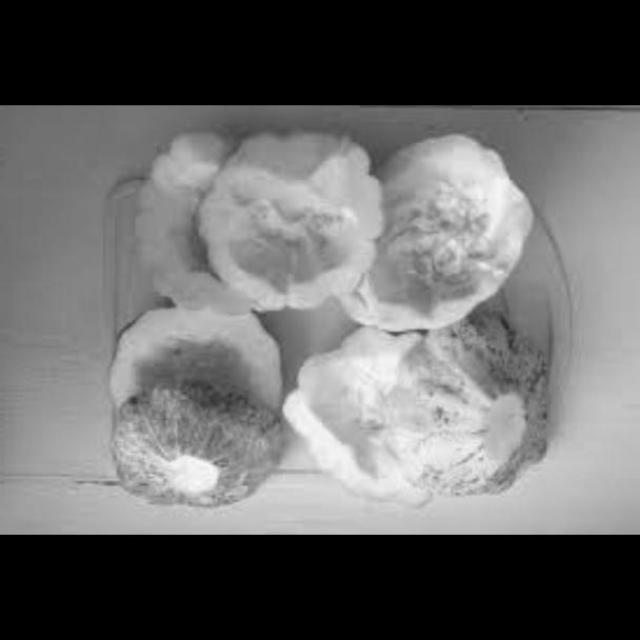bi dao: (356, 128, 549, 344), (284, 316, 466, 516), (392, 296, 560, 504), (208, 124, 386, 320), (106, 303, 292, 432), (101, 387, 282, 514), (136, 130, 249, 327)
